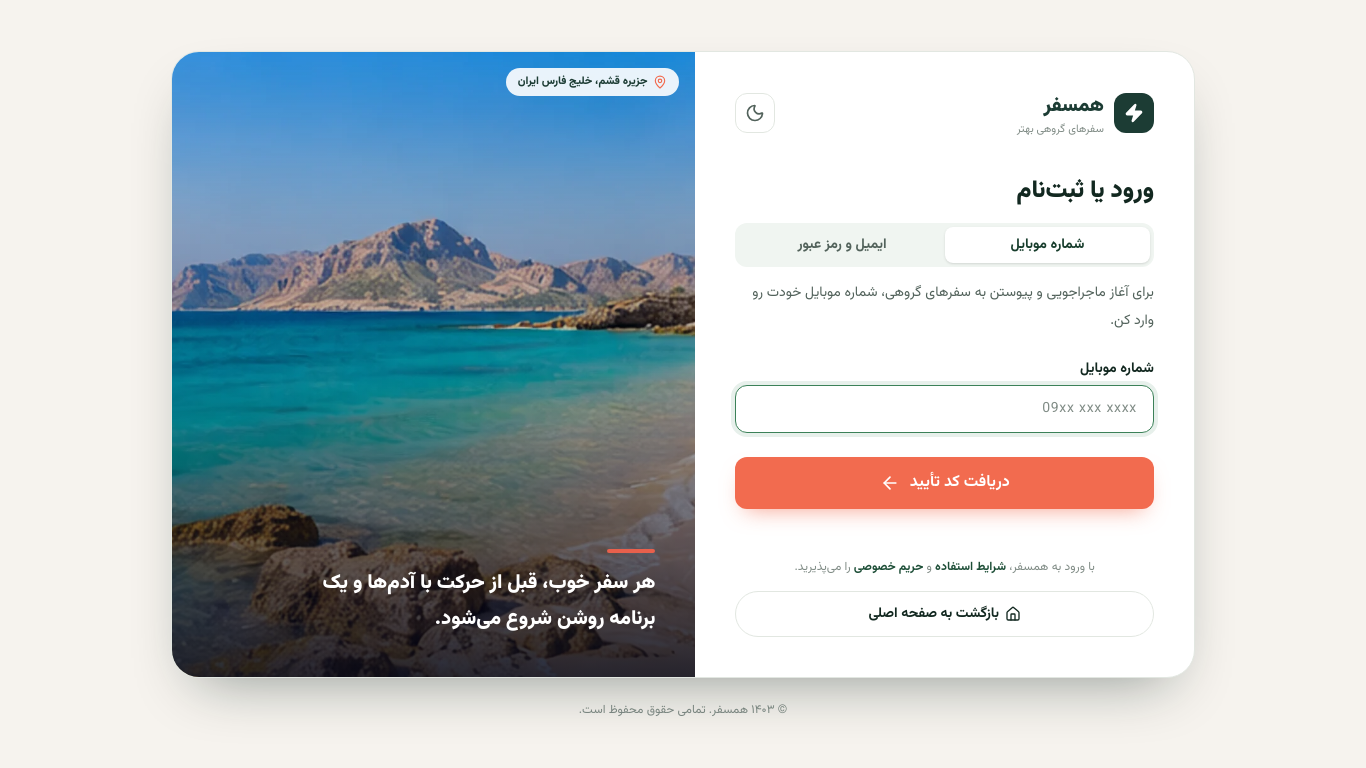
Test case: AuthPage (OTP login against the mock API) › rejects an empty or malformed number without calling the API
Click the button "دریافت کد تأیید" at (945, 482), box [736, 456, 1154, 508]
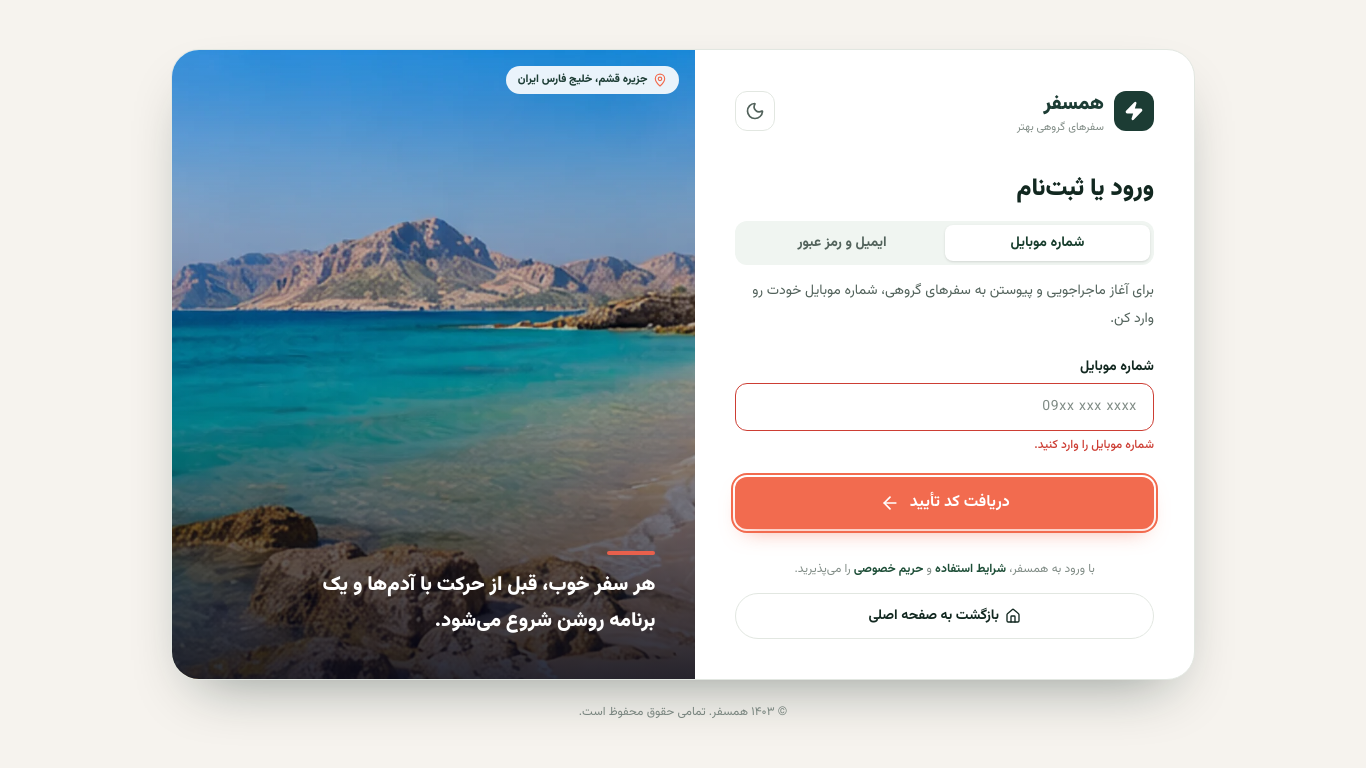
Expected: the text "شماره موبایل را وارد کنید." is shown, [1034, 436, 1154, 454]
Type "0812" into the field labelled "شماره موبایل" at (945, 406), box [736, 382, 1154, 430]
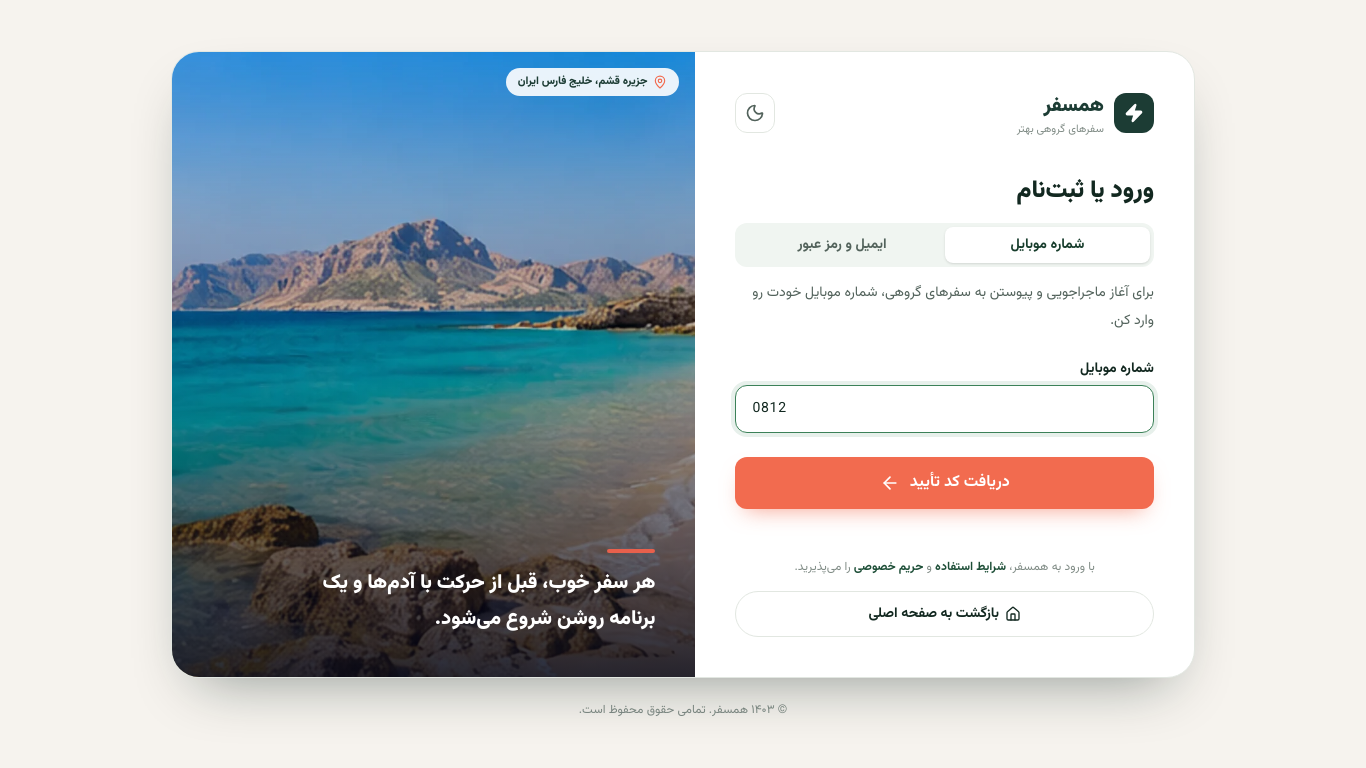
Click the button "دریافت کد تأیید" at (945, 482), box [736, 456, 1154, 508]
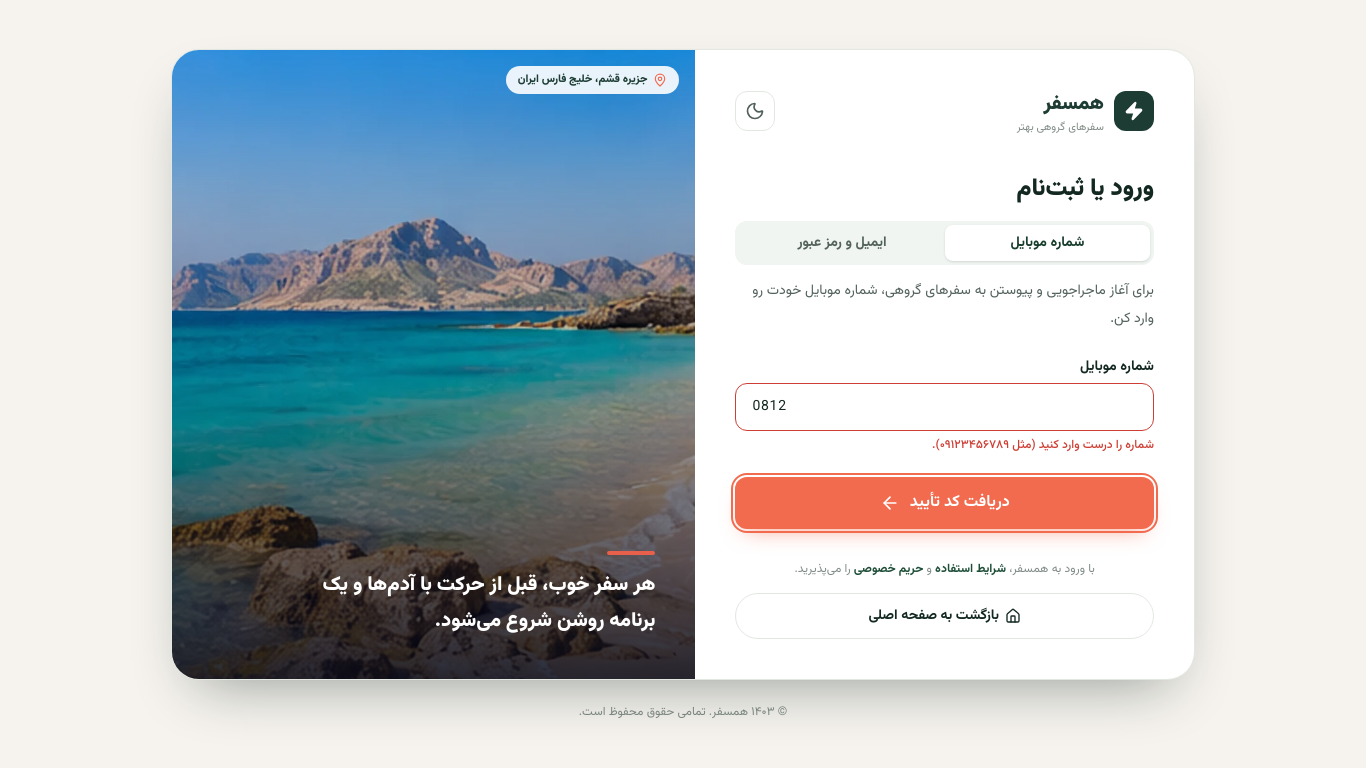
Expected: the text "شماره را درست وارد کنید (مثل ۰۹۱۲۳۴۵۶۷۸۹)." is shown, [932, 436, 1154, 454]
